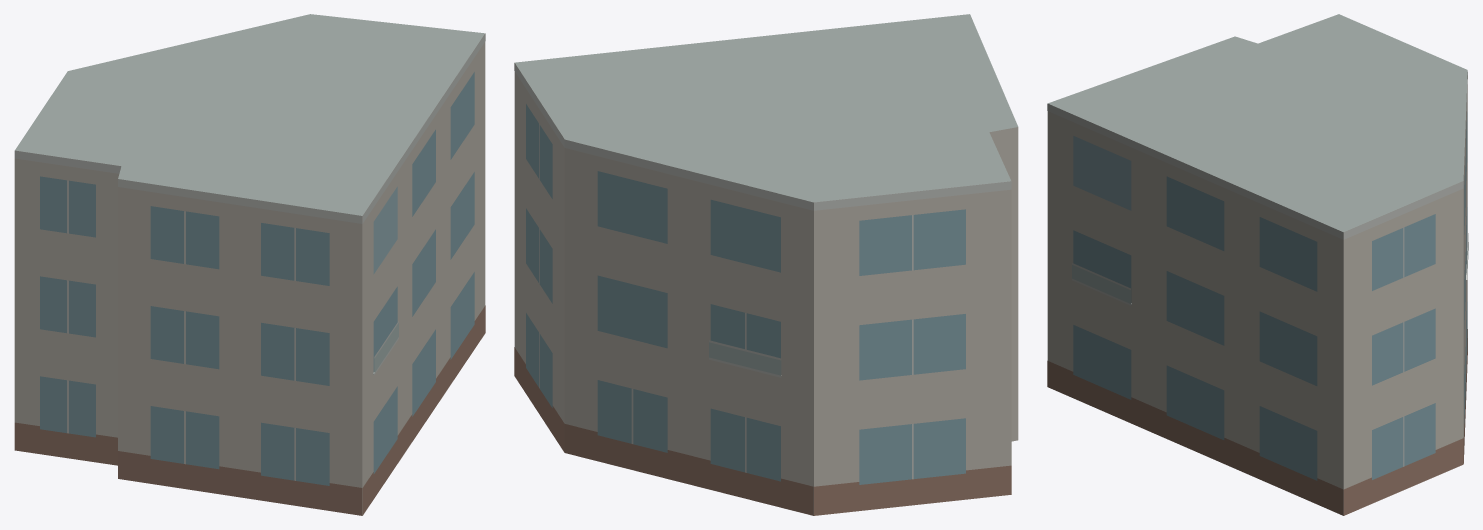
File: survey-upis-32813298.glb
3 renders of one model, left to right at view 1: azimuth 30°, elevation 25°; view 2: azimuth 150°, elevation 25°; view 3: azimuth 270°, elevation 25°, orthographic. The views are drawn at different scales.
Parts seen in each view (by area): view 1: survey-upis-32813298.tmp; view 2: survey-upis-32813298.tmp; view 3: survey-upis-32813298.tmp.
Part boxes in pixels (left/top/right/bottom): survey-upis-32813298.tmp: left=14, top=14, right=485, bottom=515; survey-upis-32813298.tmp: left=514, top=14, right=1018, bottom=515; survey-upis-32813298.tmp: left=1047, top=14, right=1468, bottom=515.
Size of the model in its own units: 15.11 by 9.15 by 12.31.
